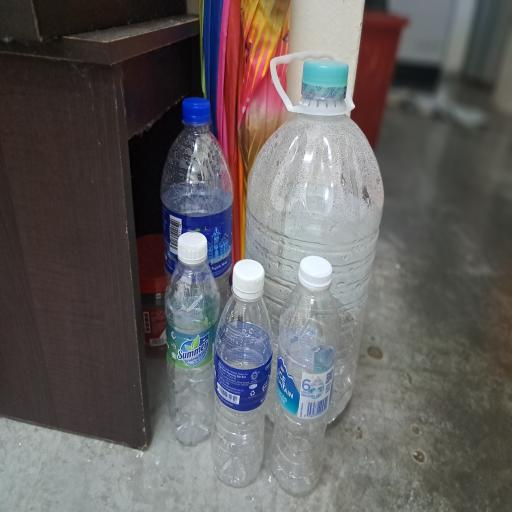plastic bottle: (245, 111, 387, 427), (159, 124, 236, 344), (280, 284, 340, 492), (162, 260, 221, 443), (216, 292, 267, 486)
plastic bottle cap: (300, 54, 352, 109), (294, 250, 334, 289), (231, 258, 265, 302), (176, 226, 207, 269), (178, 91, 211, 129)
